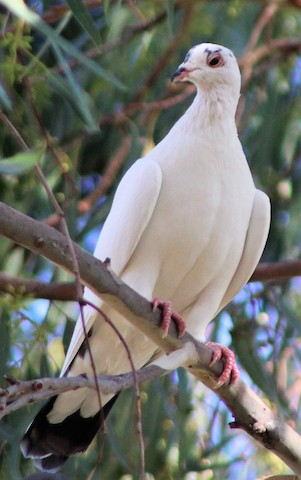pigeon: (16, 35, 274, 473)
